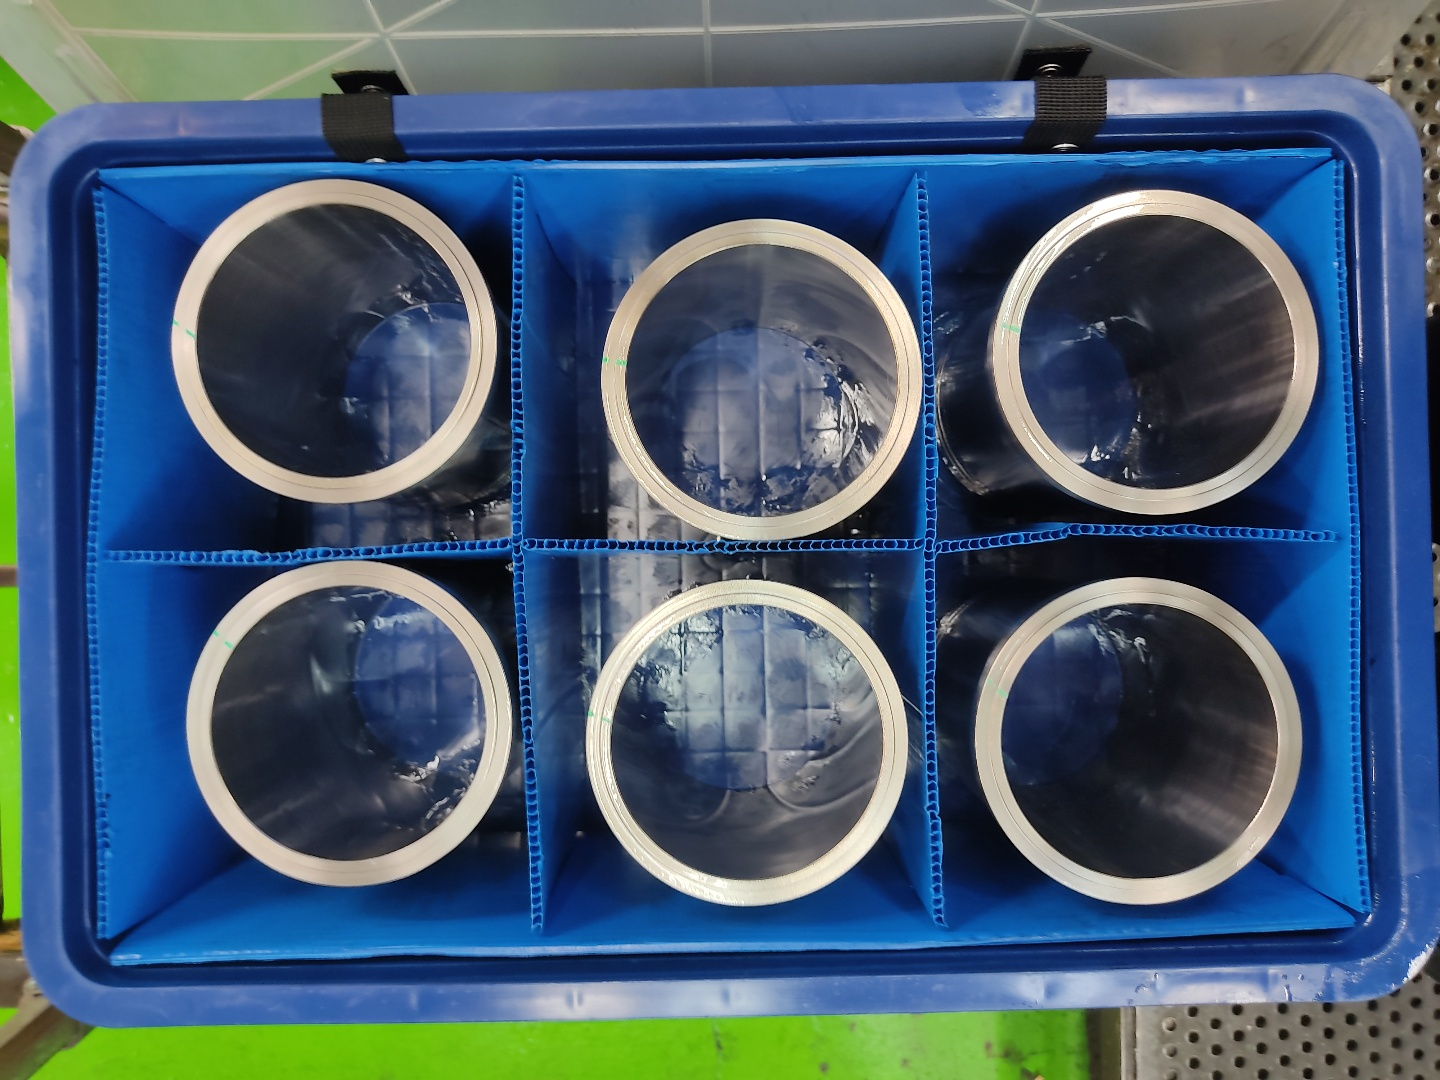cylinder: (986, 182, 1323, 521), (163, 175, 503, 511), (180, 556, 515, 894), (972, 573, 1305, 910), (582, 577, 912, 913), (594, 213, 925, 547)
